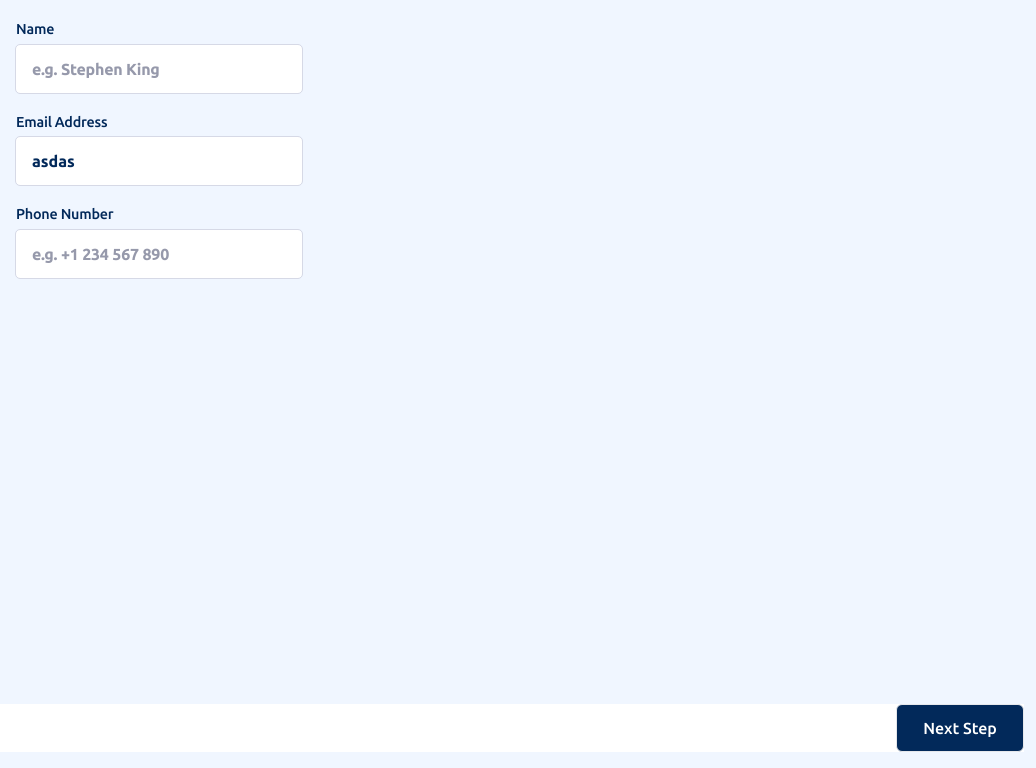
Test: invalid email message pops up at incorrectly filled email field when submit button clicked
Click the button "next step" at (960, 728), box [896,704,1024,752]
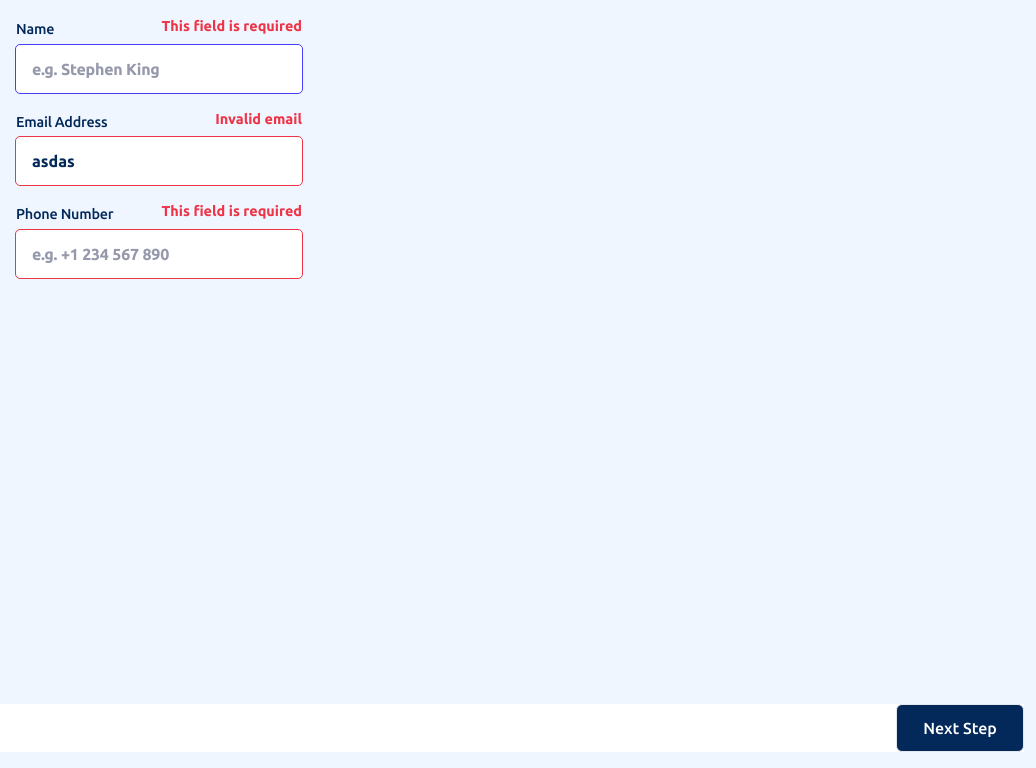
Expected: the text "Invalid email" is shown, [215,109,302,130]
